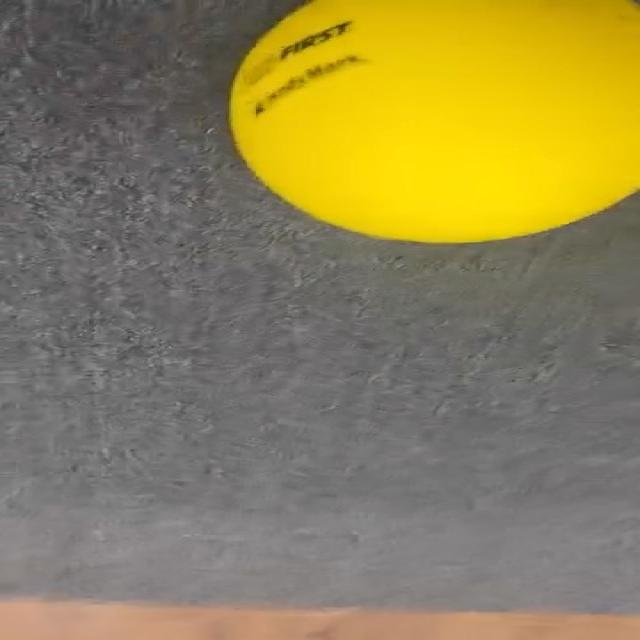Fuels: (227, 0, 640, 242)
